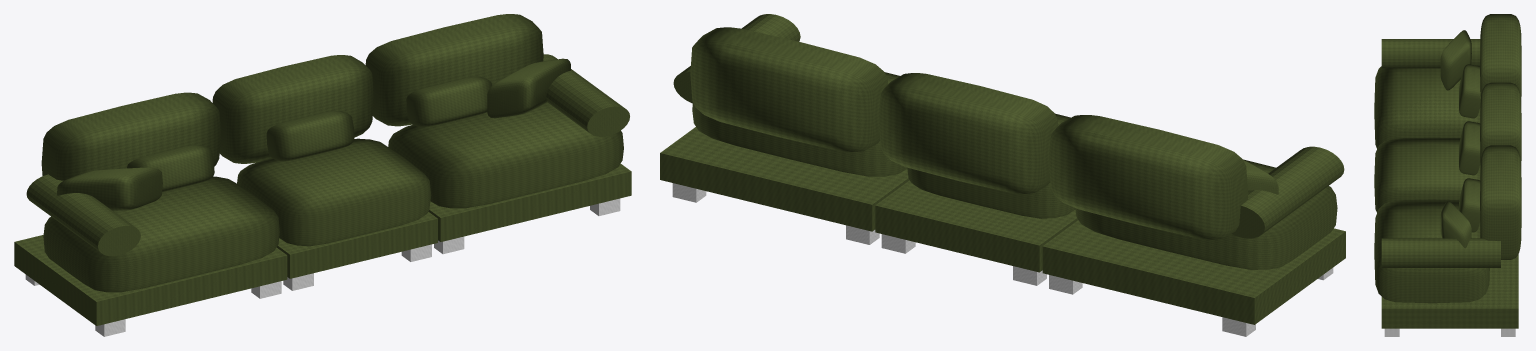
3 views of the same model, side by side, from view 1: azimuth 30°, elevation 25°; view 2: azimuth 150°, elevation 25°; view 3: azimuth 270°, elevation 25° (orthographic). The views are drawn at different scales.
Visible parts, largest first — view 1: 6 right_seat_cushion, 4 left_seat_cushion, 5 middle_seat_cushion, 9 right_backrest, 8 middle_backrest, 7 left_backrest, 1 left_base_frame, 3 right_base_frame, 2 middle_base_frame, 10 left_bolster_armrest, 11 right_bolster_armrest, 13 middle_waist_pillow (+4 smaller); view 2: 7 left_backrest, 9 right_backrest, 8 middle_backrest, 1 left_base_frame, 3 right_base_frame, 2 middle_base_frame, 4 left_seat_cushion, 10 left_bolster_armrest, 6 right_seat_cushion, 5 middle_seat_cushion, 11 right_bolster_armrest, 15 left_throw_pillow; view 3: 6 right_seat_cushion, 4 left_seat_cushion, 5 middle_seat_cushion, 3 right_base_frame, 9 right_backrest, 11 right_bolster_armrest, 7 left_backrest, 8 middle_backrest, 10 left_bolster_armrest, 15 left_throw_pillow, 12 left_waist_pillow, 13 middle_waist_pillow (+4 smaller).
Boxes of the visible parts, left/top/right/bottom form: 6 right_seat_cushion: left=388, top=102, right=623, bottom=208; 4 left_seat_cushion: left=43, top=176, right=279, bottom=292; 5 middle_seat_cushion: left=237, top=138, right=431, bottom=246; 9 right_backrest: left=365, top=14, right=543, bottom=126; 8 middle_backrest: left=212, top=55, right=373, bottom=163; 7 left_backrest: left=41, top=92, right=220, bottom=180; 1 left_base_frame: left=14, top=235, right=287, bottom=325; 3 right_base_frame: left=428, top=163, right=631, bottom=241; 2 middle_base_frame: left=276, top=212, right=437, bottom=278; 10 left_bolster_armrest: left=26, top=174, right=140, bottom=256; 11 right_bolster_armrest: left=543, top=54, right=629, bottom=136; 13 middle_waist_pillow: left=266, top=110, right=354, bottom=161; 7 left_backrest: left=1048, top=115, right=1248, bottom=239; 9 right_backrest: left=690, top=27, right=887, bottom=151; 8 middle_backrest: left=879, top=73, right=1058, bottom=193; 1 left_base_frame: left=1042, top=220, right=1345, bottom=324; 3 right_base_frame: left=660, top=127, right=909, bottom=231; 2 middle_base_frame: left=875, top=180, right=1077, bottom=272; 4 left_seat_cushion: left=1075, top=159, right=1337, bottom=269; 10 left_bolster_armrest: left=1231, top=146, right=1344, bottom=238; 6 right_seat_cushion: left=692, top=72, right=907, bottom=176; 5 middle_seat_cushion: left=907, top=113, right=1075, bottom=218; 11 right_bolster_armrest: left=673, top=14, right=800, bottom=103; 15 left_throw_pillow: left=1243, top=160, right=1278, bottom=194; 6 right_seat_cushion: left=1374, top=199, right=1489, bottom=303; 4 left_seat_cushion: left=1374, top=66, right=1480, bottom=148; 5 middle_seat_cushion: left=1374, top=137, right=1480, bottom=212; 3 right_base_frame: left=1381, top=254, right=1518, bottom=328; 9 right_backrest: left=1480, top=145, right=1521, bottom=259; 11 right_bolster_armrest: left=1381, top=238, right=1500, bottom=267; 7 left_backrest: left=1480, top=14, right=1521, bottom=100; 8 middle_backrest: left=1480, top=82, right=1521, bottom=165; 10 left_bolster_armrest: left=1381, top=39, right=1480, bottom=68; 15 left_throw_pillow: left=1440, top=30, right=1471, bottom=90; 12 left_waist_pillow: left=1459, top=64, right=1480, bottom=118; 13 middle_waist_pillow: left=1459, top=121, right=1480, bottom=175.
Size of the model in its own units: 3.71 by 1 by 1.06.
2 materials, 2 textured.
